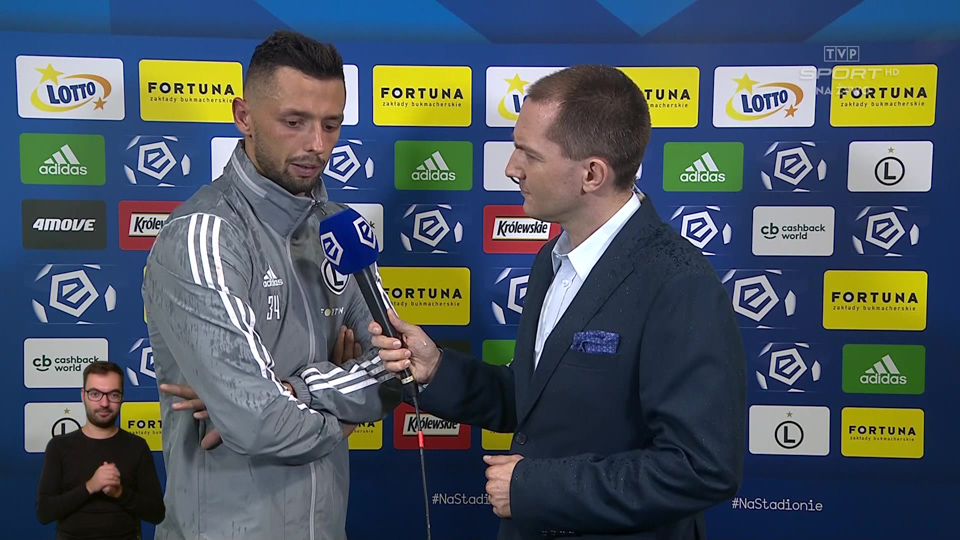Adidas: (39, 144, 88, 177), (860, 353, 907, 387), (411, 149, 458, 182), (680, 151, 727, 182), (261, 263, 286, 287)
